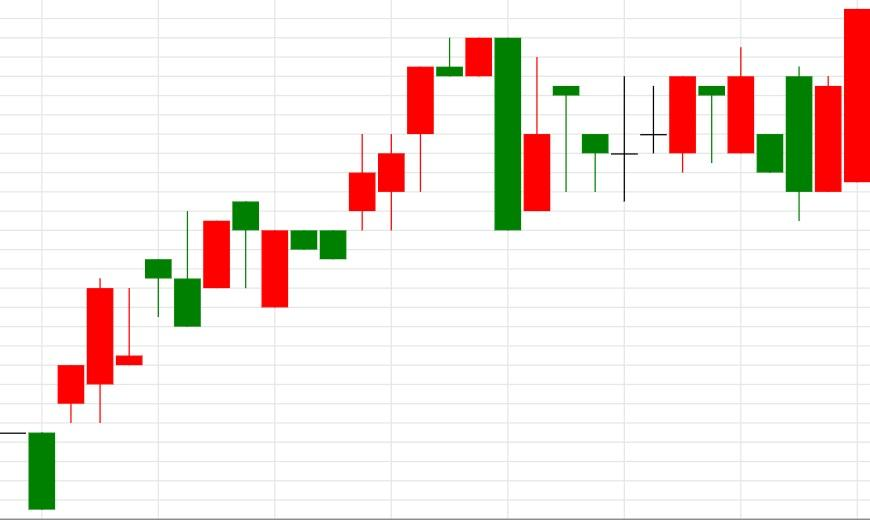bearish_engulfing_fall: (260, 37, 521, 308)
hanging_man_fall: (28, 201, 260, 511)
